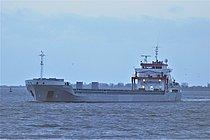Ship: (23, 39, 186, 107)
